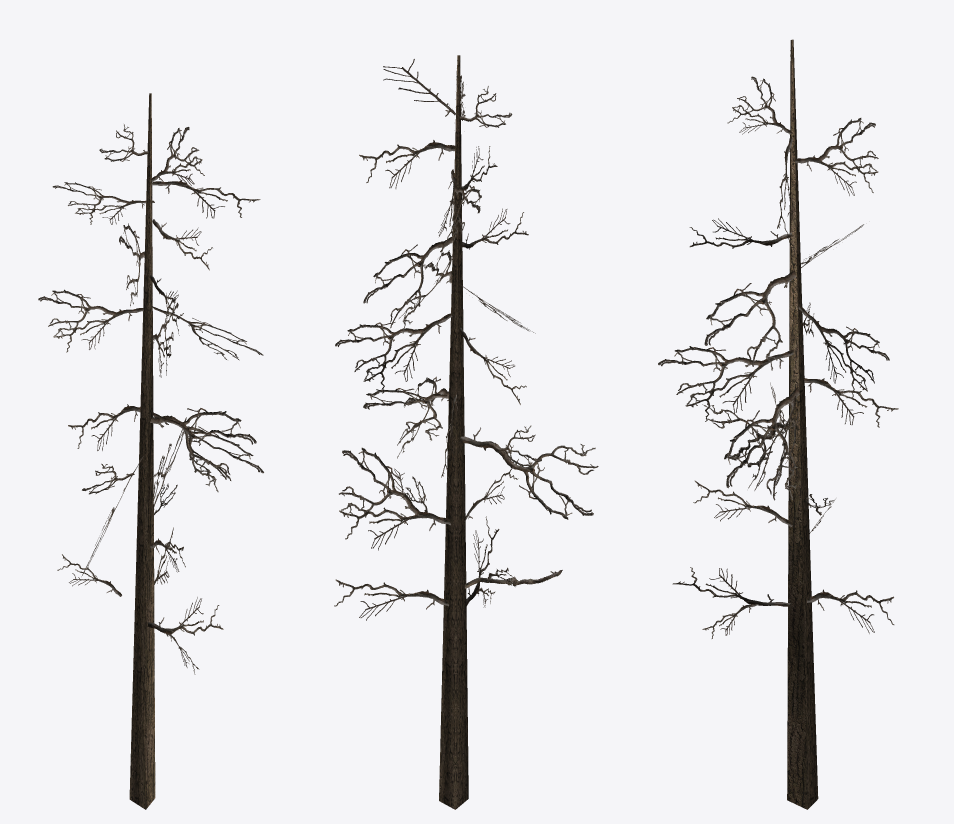
The model's file is Vegetation_Deadtree01_lod2.glb.
3 views of the same model, side by side, from view 1: azimuth 30°, elevation 25°; view 2: azimuth 150°, elevation 25°; view 3: azimuth 270°, elevation 25° (orthographic). The views are drawn at different scales.
Visible parts, largest first — view 1: xiutz_deadtree01_lod2; view 2: xiutz_deadtree01_lod2; view 3: xiutz_deadtree01_lod2.
Part boxes in pixels (x1,y1,x2,y2): xiutz_deadtree01_lod2: [38, 93, 263, 809]; xiutz_deadtree01_lod2: [334, 55, 598, 809]; xiutz_deadtree01_lod2: [658, 39, 898, 809].
Bounding box in the file's own units: 8.85 × 25.83 × 8.41.
Materials: 1 (1 with a texture image).
